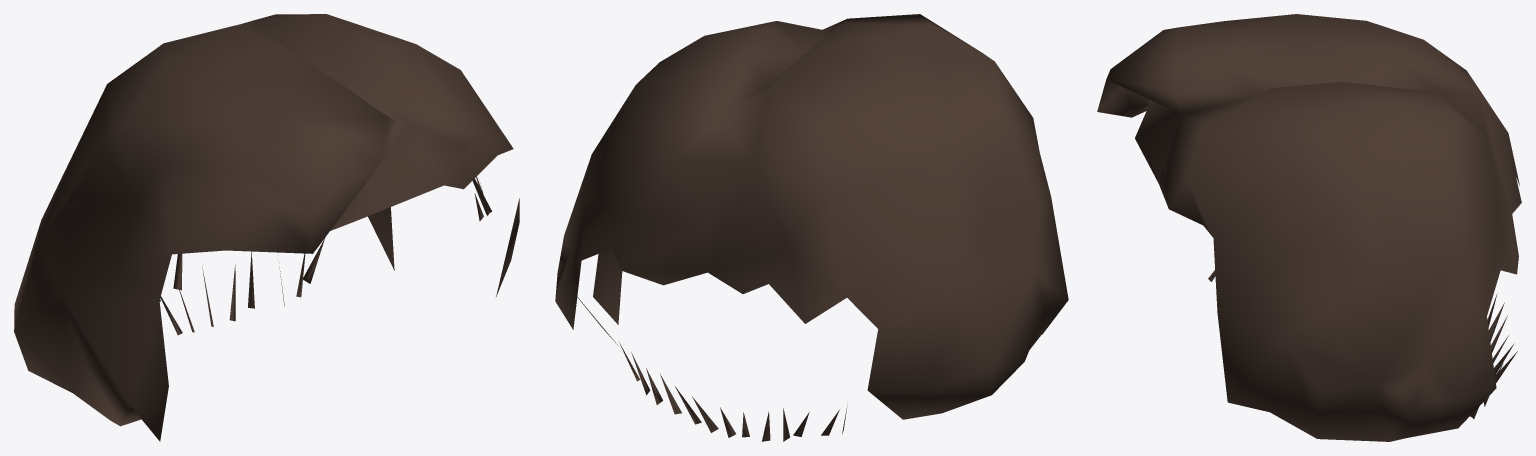
The model's file is bob.glb.
The picture shows the model from 3 angles, left to right: view 1: azimuth 30°, elevation 25°; view 2: azimuth 150°, elevation 25°; view 3: azimuth 270°, elevation 25°; orthographic projection. The views are drawn at different scales.
Visible parts, largest first — view 1: Hair, HairPulledRootStrands; view 2: Hair, HairPulledRootStrands; view 3: Hair, HairPulledRootStrands.
Part boxes in pixels (x1,y1,x2,y2): Hair: [14, 14, 519, 441]; HairPulledRootStrands: [159, 176, 491, 335]; Hair: [555, 14, 1068, 419]; HairPulledRootStrands: [619, 342, 847, 441]; Hair: [1097, 14, 1521, 441]; HairPulledRootStrands: [1208, 270, 1517, 418].
Size of the model in its own units: 0.5141 by 0.366 by 0.4129.
